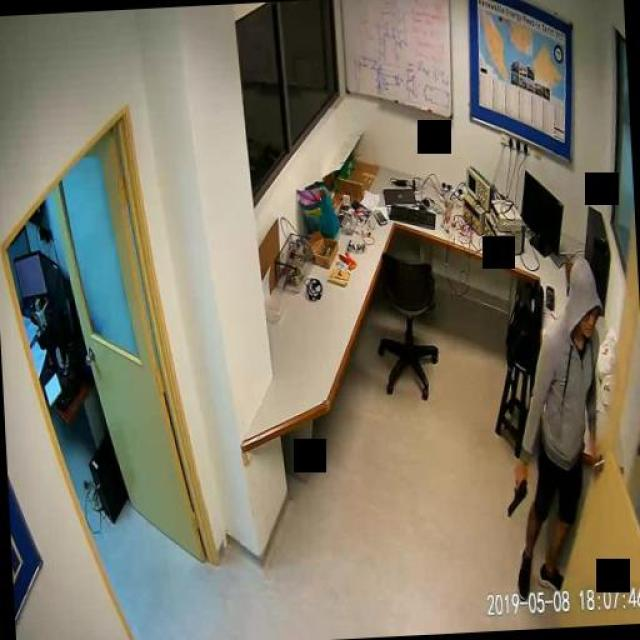gun: (503, 466, 528, 516)
